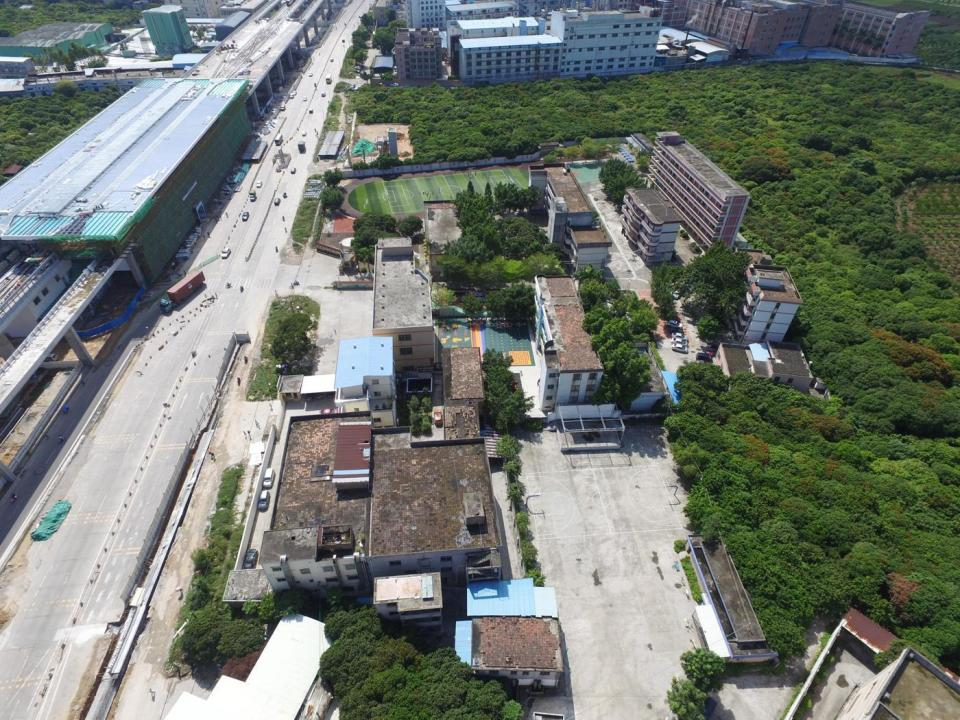bus: (274, 133, 282, 145), (326, 73, 332, 84)
car: (246, 547, 259, 572), (263, 468, 276, 487), (258, 491, 270, 511), (672, 343, 689, 354), (320, 408, 338, 418), (666, 319, 682, 330), (672, 337, 688, 347), (671, 332, 688, 341), (667, 312, 680, 322), (221, 247, 232, 258), (326, 385, 336, 397), (304, 388, 312, 402), (696, 352, 710, 360), (670, 327, 684, 335), (673, 289, 683, 300), (707, 344, 717, 355), (314, 388, 323, 400), (697, 359, 710, 366), (242, 212, 249, 221), (273, 198, 280, 206), (705, 336, 712, 344), (256, 180, 262, 187), (291, 168, 296, 173), (290, 93, 294, 99), (309, 71, 313, 76), (303, 97, 307, 102), (302, 131, 306, 136)
truck: (159, 269, 206, 312), (460, 293, 486, 303), (298, 141, 306, 152), (250, 189, 256, 201)
van: (42, 352, 57, 362), (434, 410, 442, 425), (280, 105, 286, 111), (309, 109, 313, 115), (321, 91, 325, 97), (330, 58, 334, 63)
